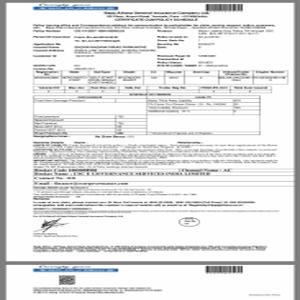table: (33, 95, 261, 134), (32, 69, 288, 86)
text: (31, 21, 278, 68), (33, 140, 279, 177), (101, 9, 212, 24)
